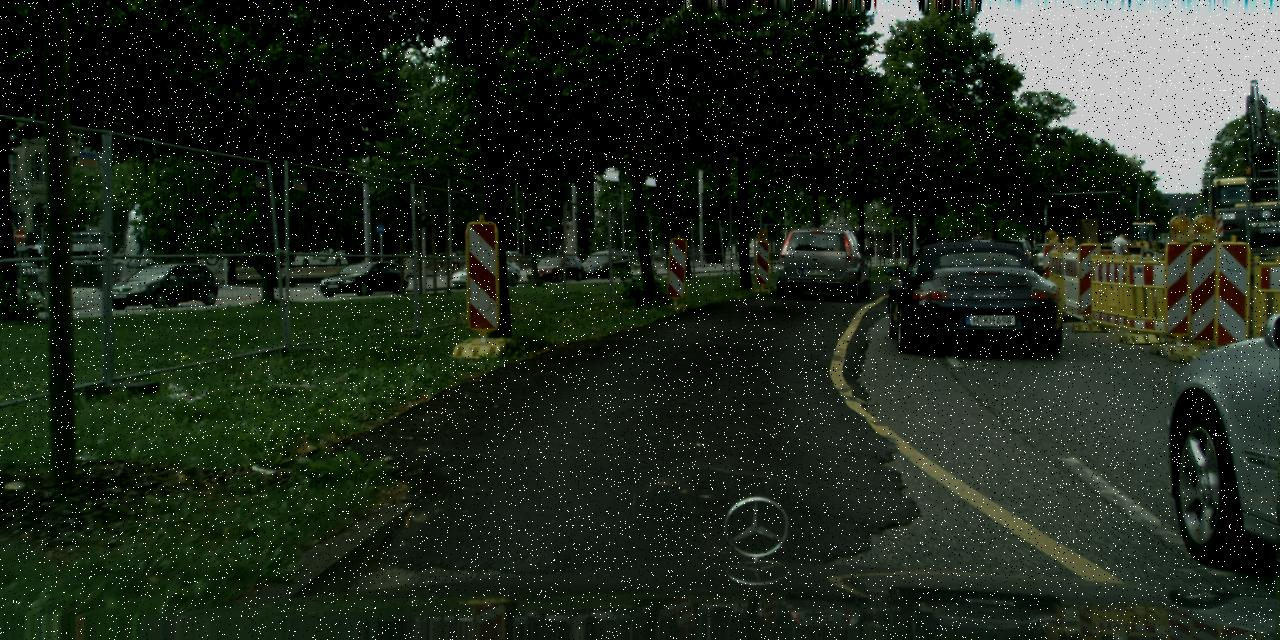ped: (1111, 228, 1138, 294)
